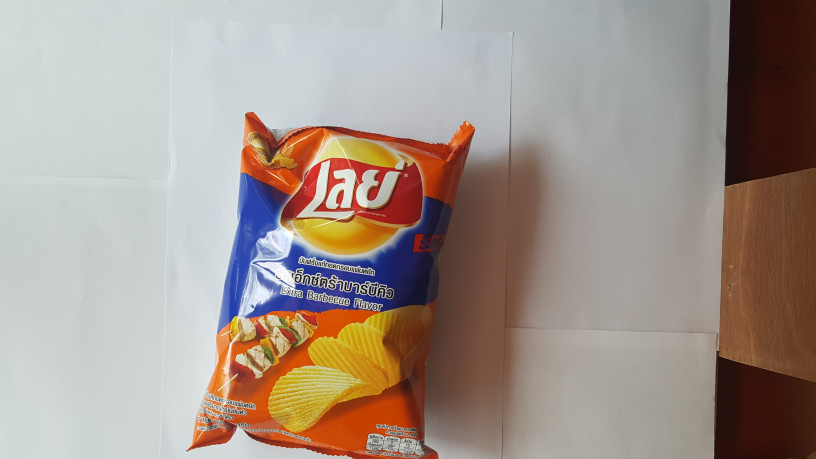lays-bbq: (173, 106, 487, 458)
